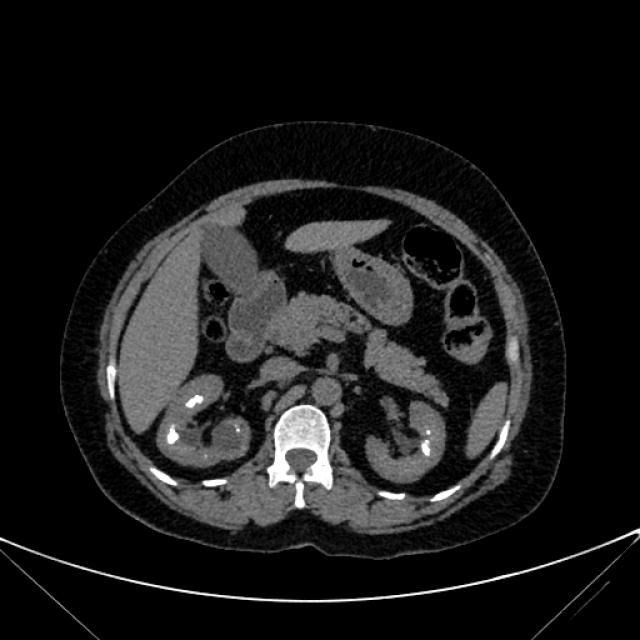kidney: (154, 373, 252, 467), (365, 396, 450, 485)
stone: (184, 391, 206, 411), (167, 427, 181, 445), (422, 437, 432, 458), (425, 428, 433, 436)
